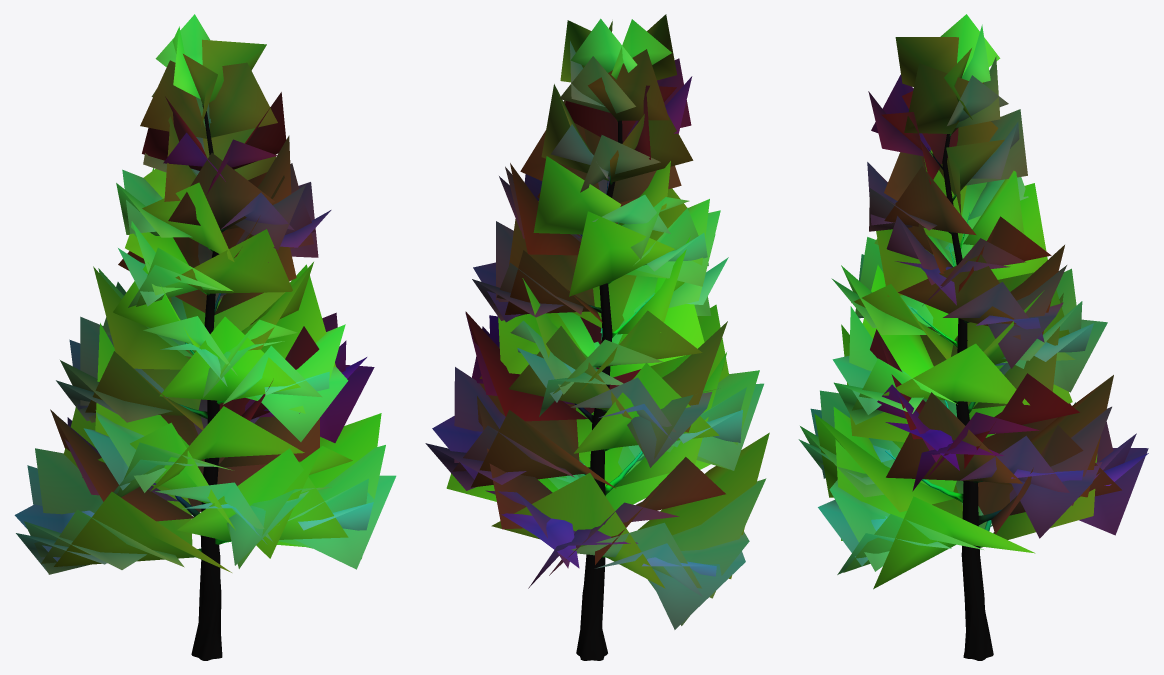
Rendered from SM_HTTree_01.FBX.
3 renders of one model, left to right at view 1: azimuth 30°, elevation 25°; view 2: azimuth 150°, elevation 25°; view 3: azimuth 270°, elevation 25°, orthographic. The views are drawn at different scales.
Parts seen in each view (by area): view 1: SM_HTTree_01_LOD0; view 2: SM_HTTree_01_LOD0; view 3: SM_HTTree_01_LOD0.
Boxes of the visible parts, x1,y1,x2,y2 form: SM_HTTree_01_LOD0: [14, 14, 396, 660]; SM_HTTree_01_LOD0: [425, 14, 769, 660]; SM_HTTree_01_LOD0: [798, 14, 1148, 660].
Size of what is drawn, in the model's own units: 355 by 353 by 693.
